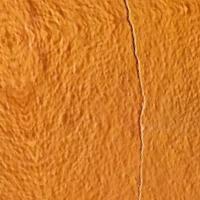crack: (107, 0, 171, 156)
